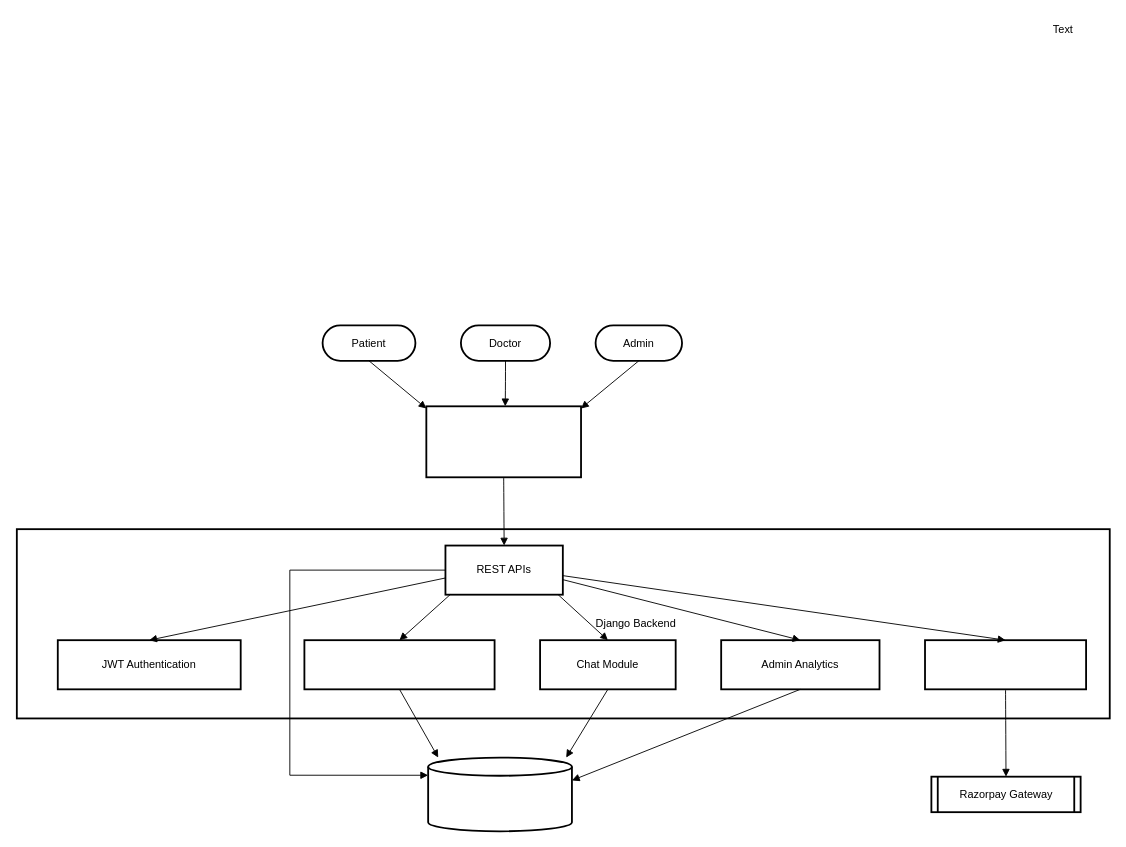
Image size: 1126x847. Some labels were removed from this diagram. Each missing label, with the centre of its shape:
"ML Prediction Engine" belongs at [399,664].
"Payment Module" belongs at [1005,664].
"PostgreSQL / SQLite" belongs at [499,794].
"React Frontend UI Dashboard" belongs at [503,441].
